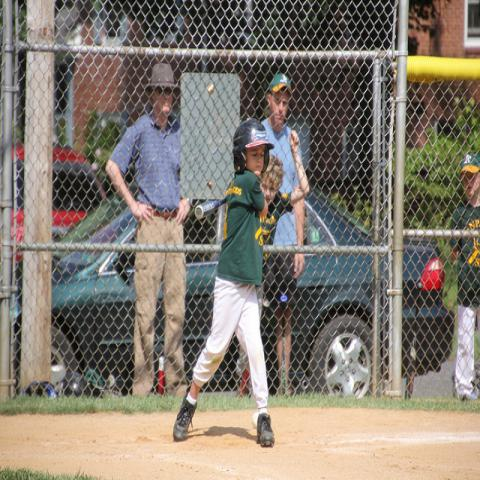car: (15, 186, 454, 397), (11, 147, 104, 262)
